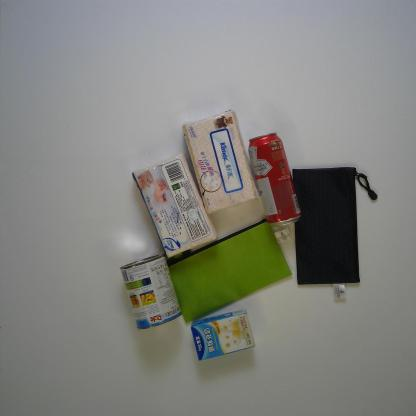Alcohol: (247, 131, 304, 230)
Canned Food: (118, 253, 186, 334)
Milk: (189, 310, 257, 364)
Stationery: (166, 217, 302, 324), (290, 166, 382, 304)
Tissue: (130, 150, 220, 267), (181, 109, 262, 220)
